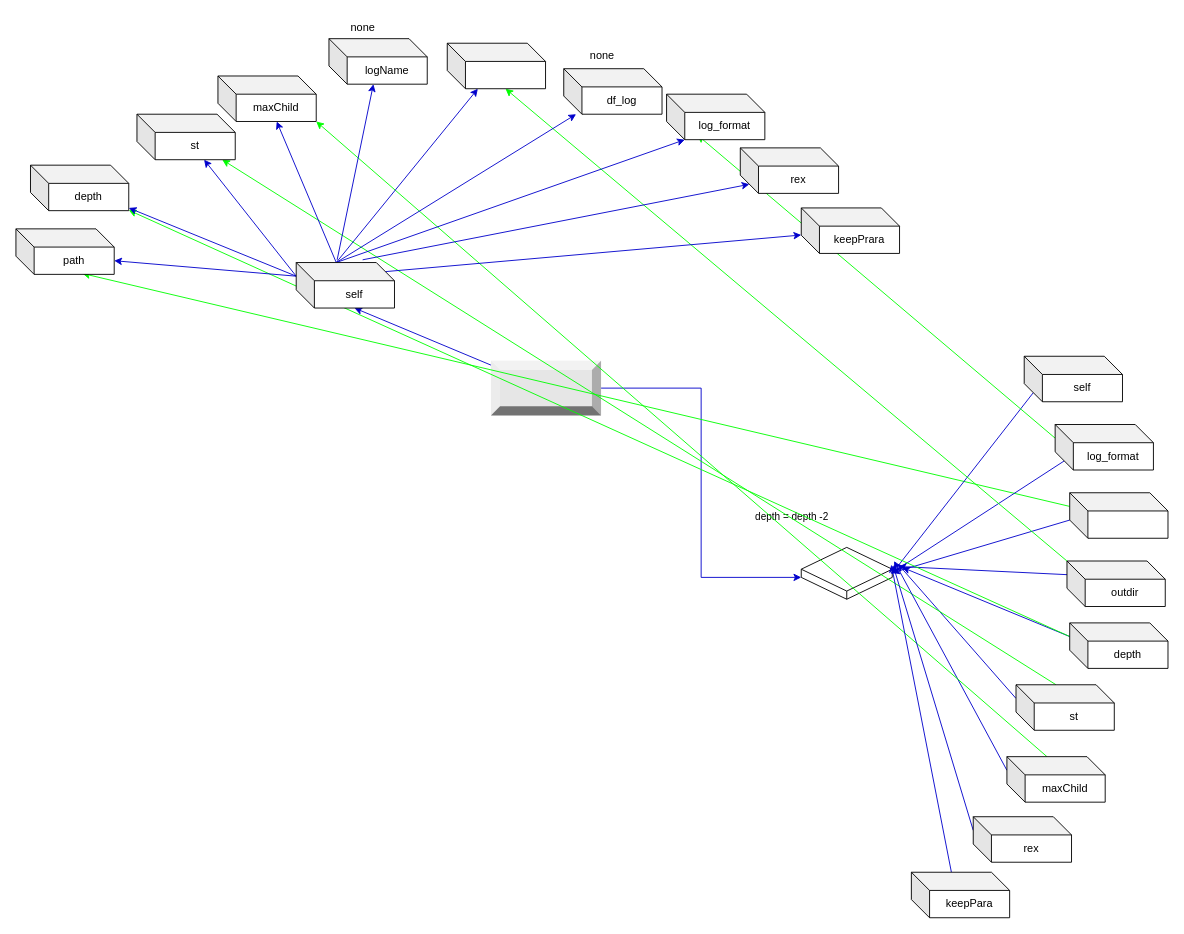
This 1184x934 diagram has some shape labels left out. Here are the shapes that lost their labels. From the top down, the box of each, then its label:
(446, 42, 546, 89): savePath
(490, 360, 601, 415): LogParser
(1069, 492, 1168, 538): indir
(800, 546, 892, 599): __init__
